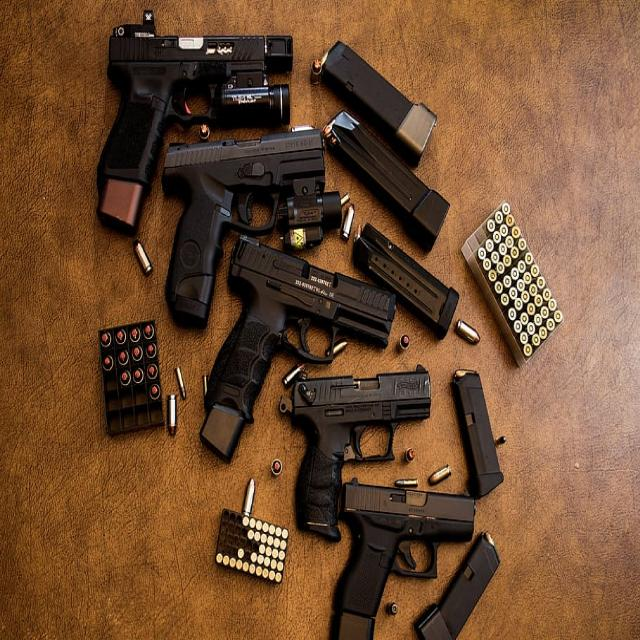gun: (199, 245, 397, 477), (86, 20, 287, 218), (165, 127, 326, 320), (292, 371, 430, 540), (334, 480, 477, 638)
